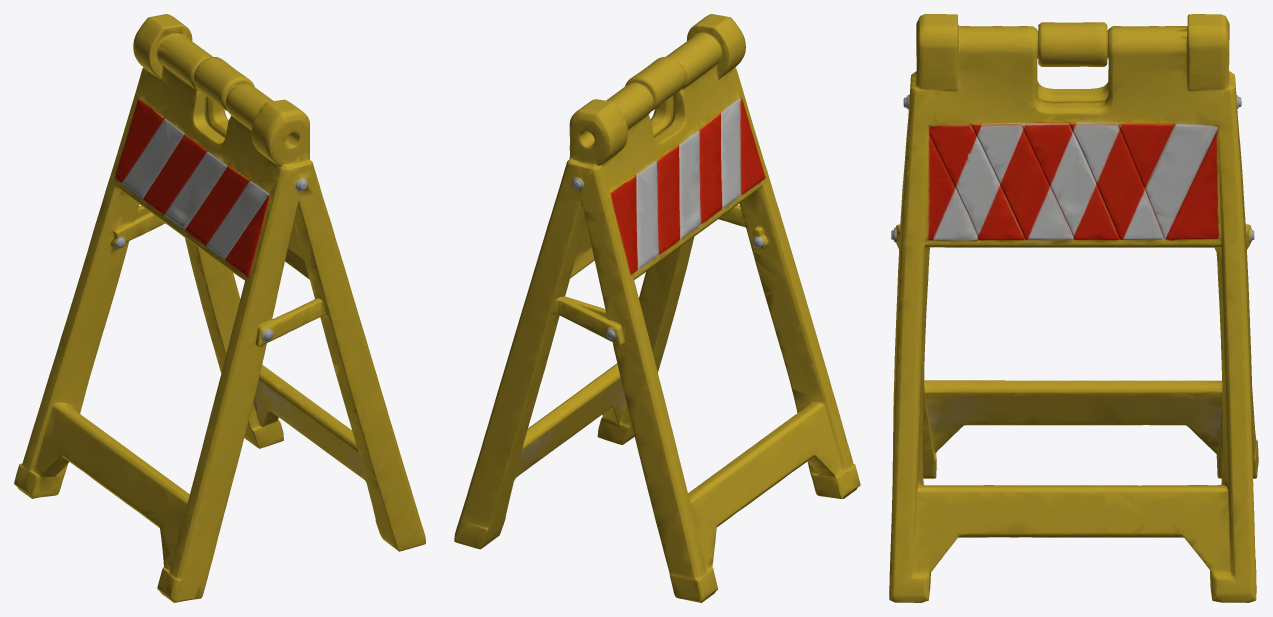
File: sawhorse.glb
3 views of the same model, side by side, from view 1: azimuth 30°, elevation 25°; view 2: azimuth 150°, elevation 25°; view 3: azimuth 270°, elevation 25° (orthographic). The views are drawn at different scales.
Visible parts, largest first — view 1: geometry_0; view 2: geometry_0; view 3: geometry_0.
Part boxes in pixels (box(x1,y1,x2,y2)): geometry_0: box(14, 14, 425, 602); geometry_0: box(454, 14, 860, 602); geometry_0: box(889, 14, 1258, 602).
Size of the model in its own units: 0.8155 by 1.4 by 0.9066.
Materials: 1 (1 with a texture image).
